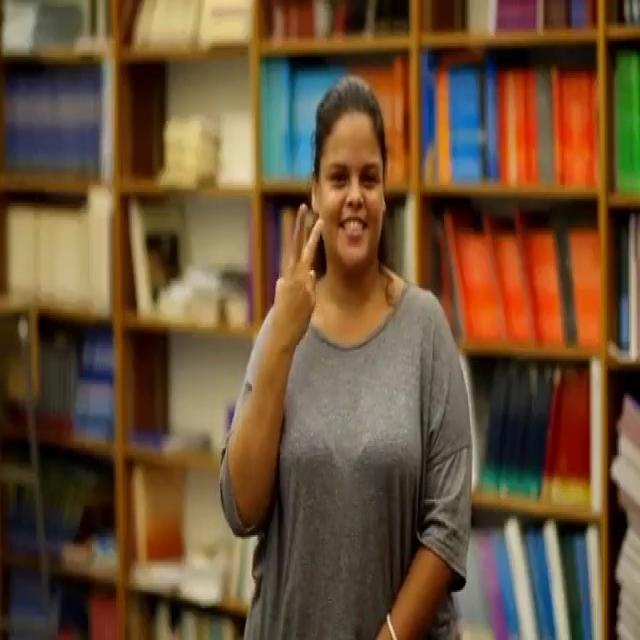vegetables: (274, 195, 326, 364)
